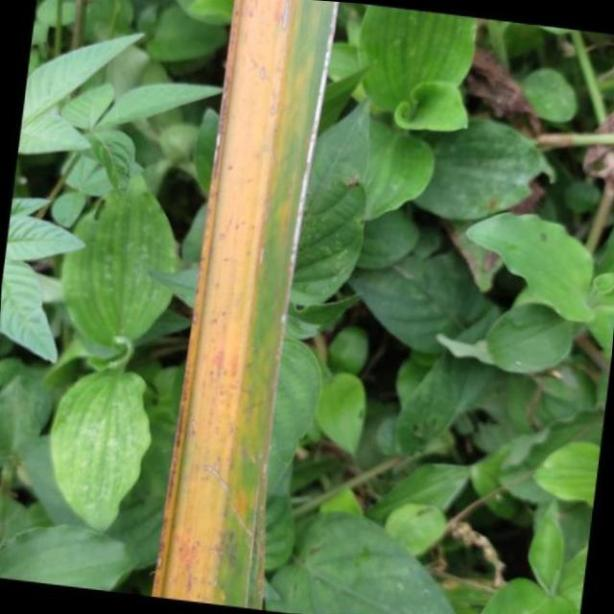Megnesium: (157, 0, 339, 614)
